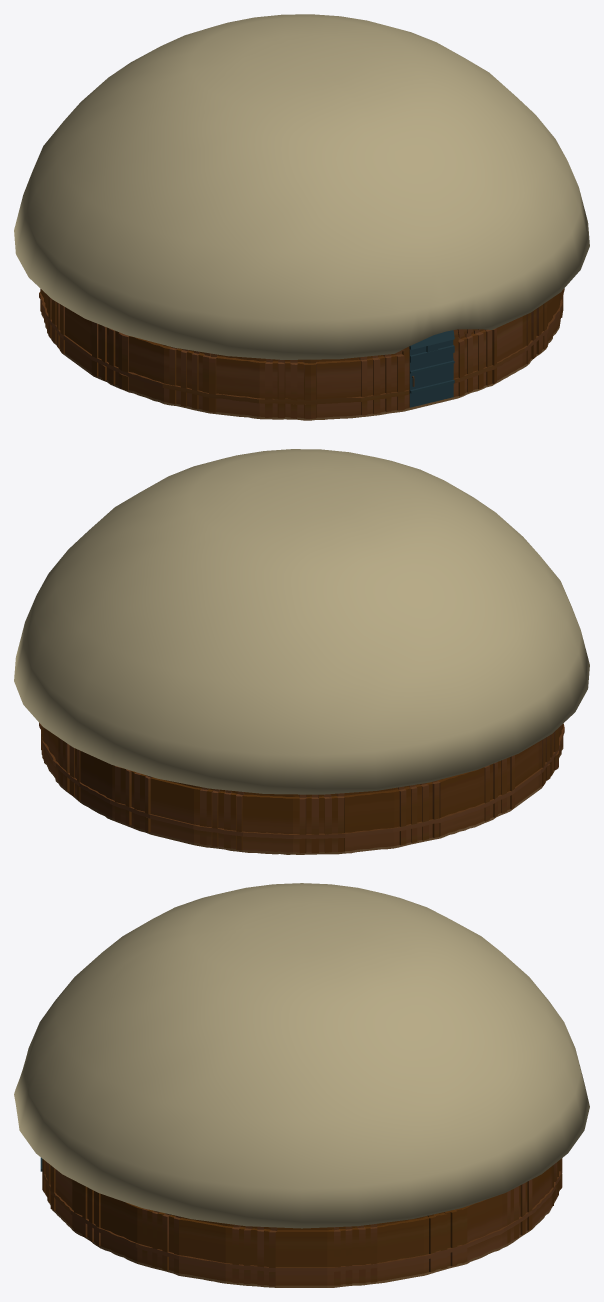
File: honai.glb
3 views of the same model, one above another, from view 1: azimuth 30°, elevation 25°; view 2: azimuth 150°, elevation 25°; view 3: azimuth 270°, elevation 25° (orthographic).
Parts seen in each view (by area): view 1: RoofHonai_Material.003_0, WallHonai_Material.001_0, DoorHonai_Material.006_0; view 2: RoofHonai_Material.003_0, WallHonai_Material.001_0; view 3: RoofHonai_Material.003_0, WallHonai_Material.001_0.
Boxes of the visible parts, left/top/right/bottom form: RoofHonai_Material.003_0: left=14, top=14, right=589, bottom=359; WallHonai_Material.001_0: left=39, top=288, right=564, bottom=420; DoorHonai_Material.006_0: left=409, top=330, right=454, bottom=407; RoofHonai_Material.003_0: left=14, top=449, right=589, bottom=794; WallHonai_Material.001_0: left=39, top=723, right=564, bottom=854; RoofHonai_Material.003_0: left=14, top=883, right=589, bottom=1228; WallHonai_Material.001_0: left=42, top=1158, right=562, bottom=1287.
Size of the model in its own units: 2215 by 1073 by 2215.
4 materials, 2 textured.
